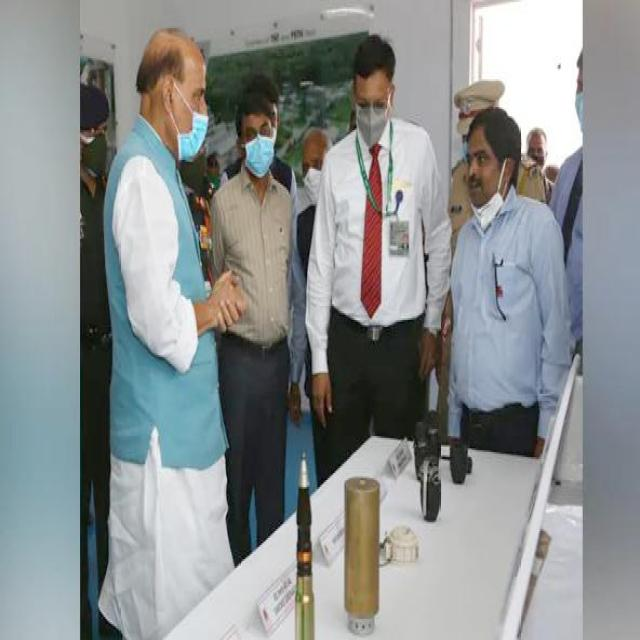grenade: (418, 455, 443, 525)
